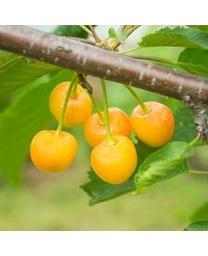cherry: (89, 136, 138, 185), (28, 129, 78, 175), (47, 81, 94, 128), (83, 107, 132, 151), (130, 101, 175, 147)
